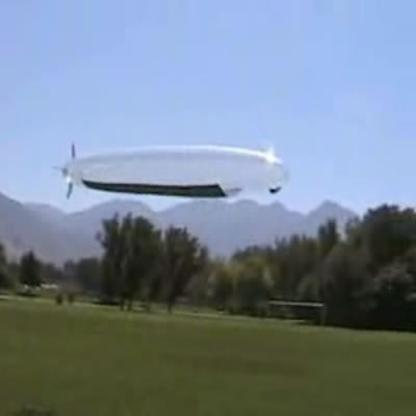Airship: (54, 141, 291, 210)
